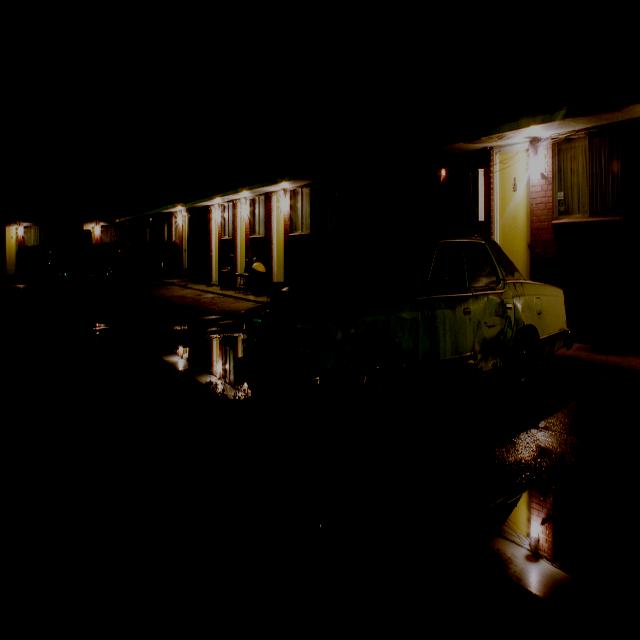Car: (236, 230, 574, 431)
